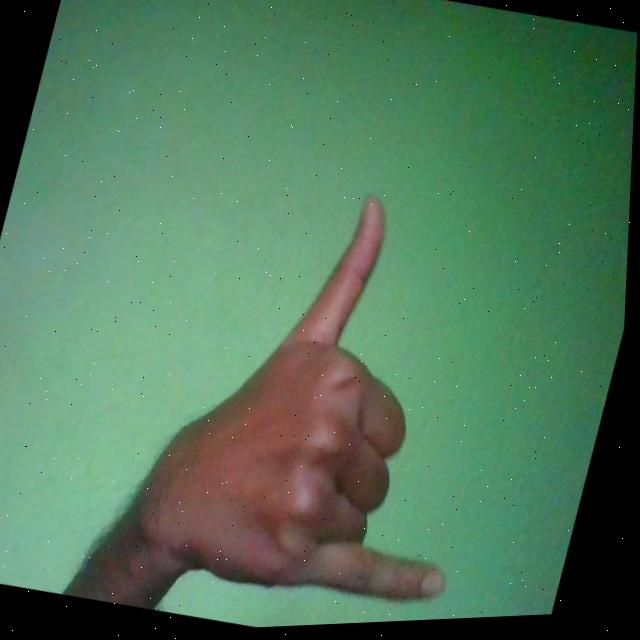Call Me: (115, 157, 543, 635)
